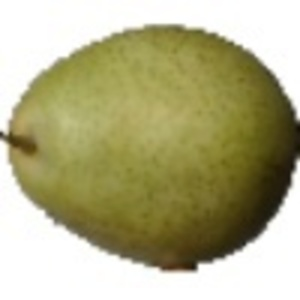pera: (1, 23, 300, 277)
